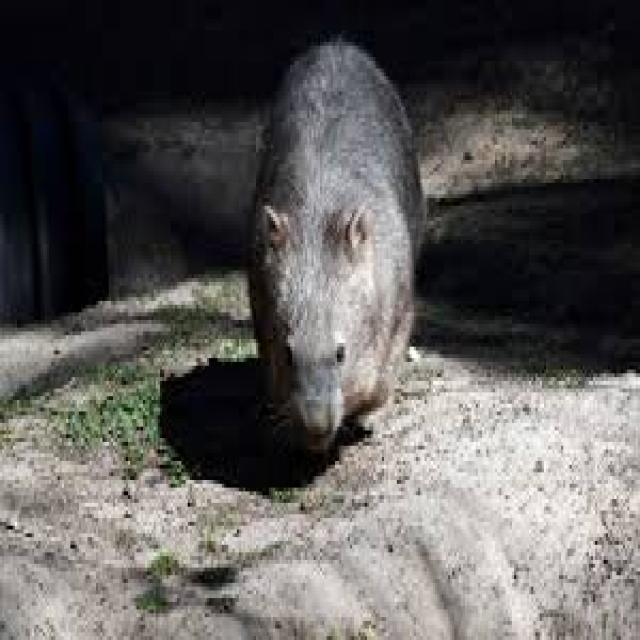Wombat: (240, 28, 422, 448)
